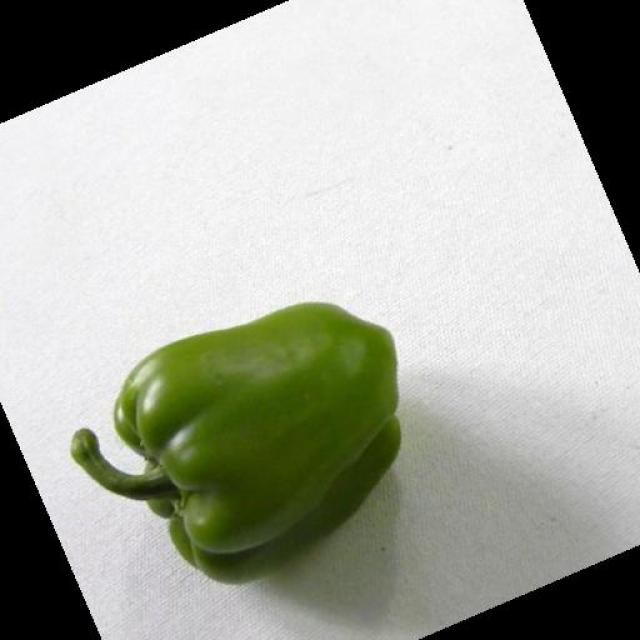Fresh_Capsicum: (61, 334, 499, 588)
